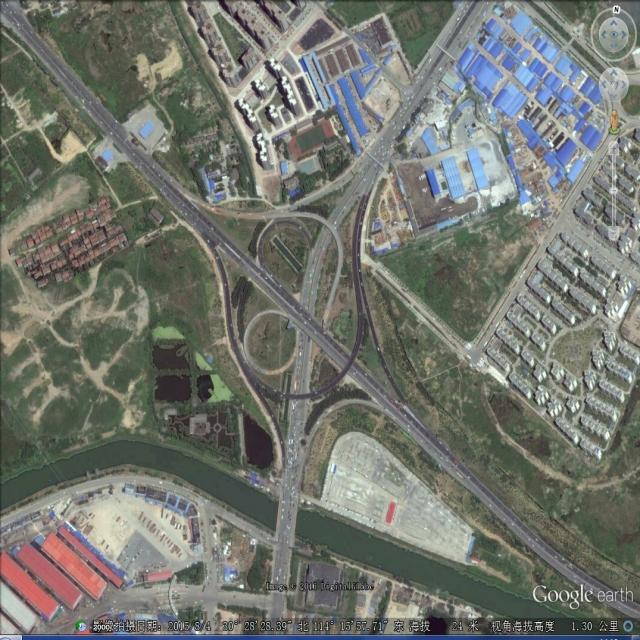overpass: (172, 163, 415, 472)
